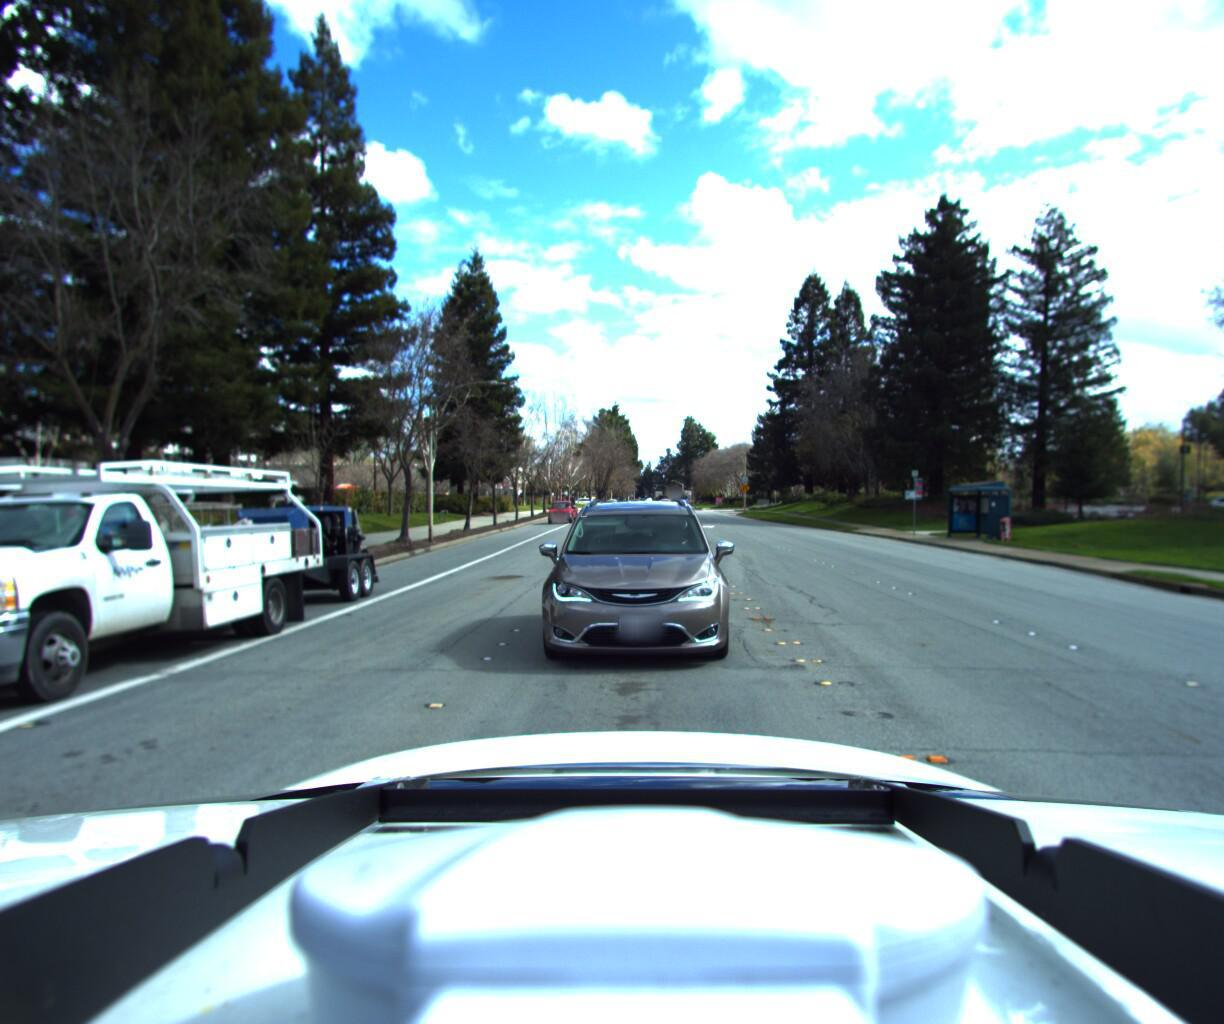car: (524, 471, 736, 667), (544, 508, 578, 531)
